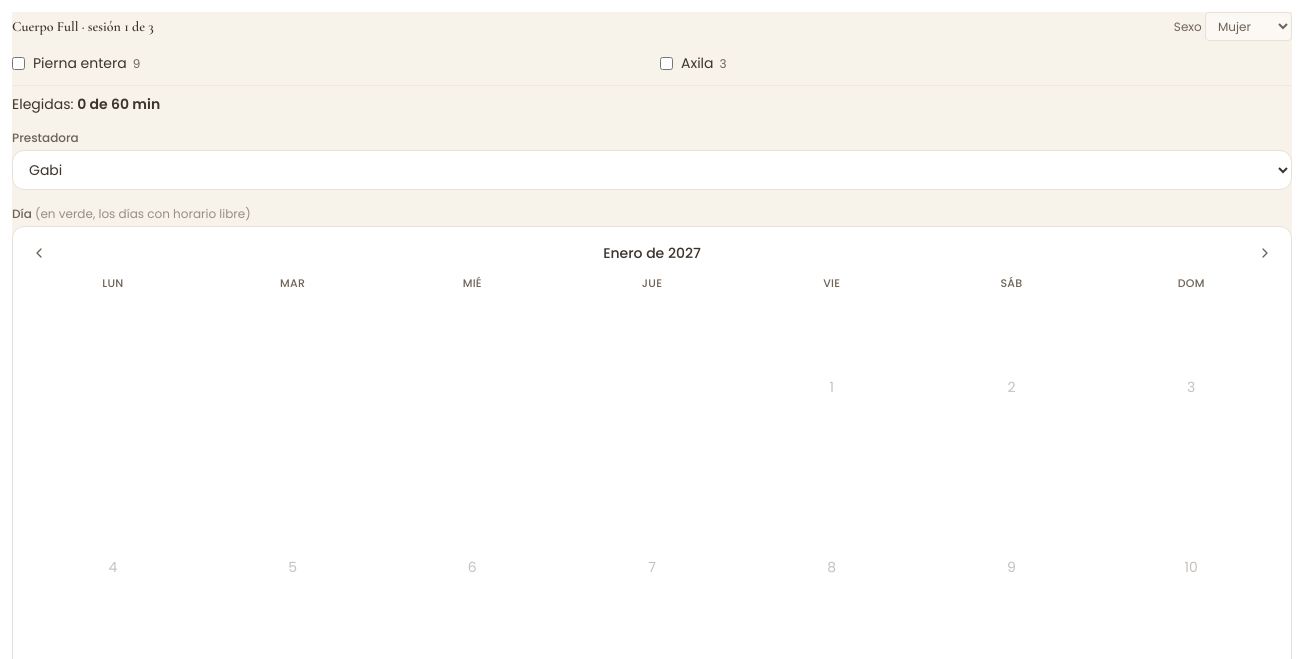
Test case: FormularioAgendar — depilación, ronda de arreglos 3 › cambiar de sexo limpia las zonas tildadas: los minutos de cada zona son otros
Click the checkbox labelled "Pierna entera9": (18, 64) [12,57,25,70]
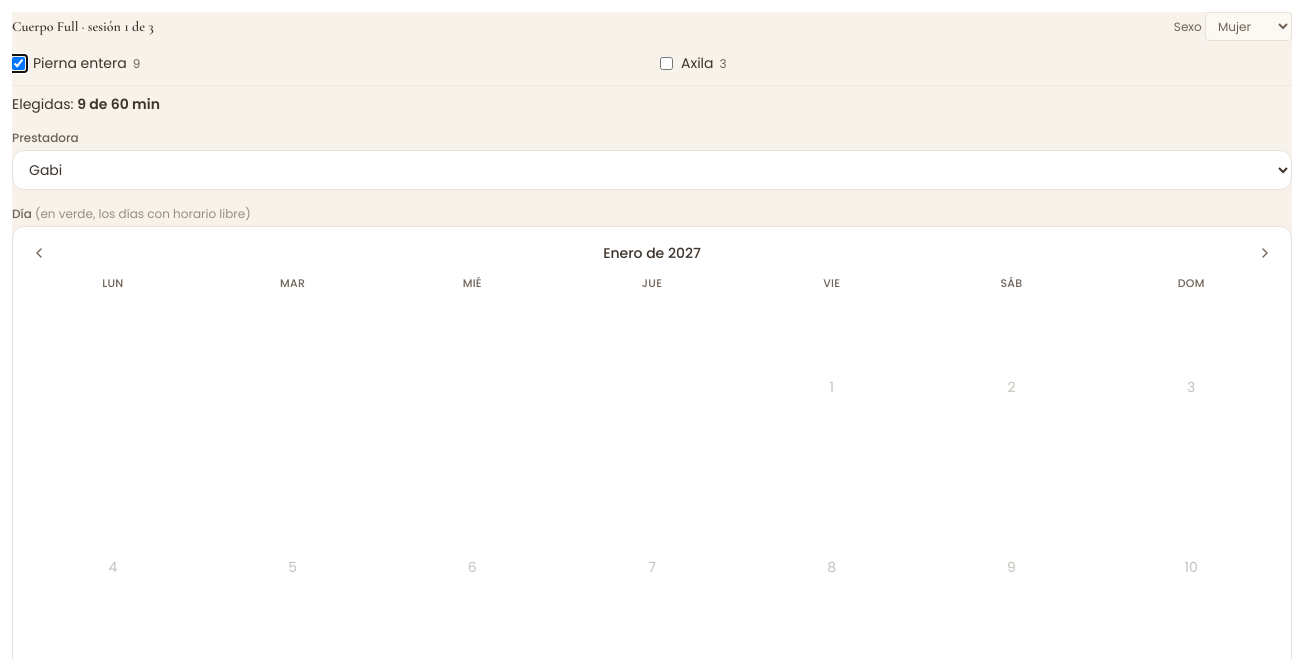
expect the text "9 de 60 min" is shown: met, box [77,94,160,114]
Select "Hombre" in the dropdown labelled "Sexo": (1248, 26) [1205,12,1292,41]
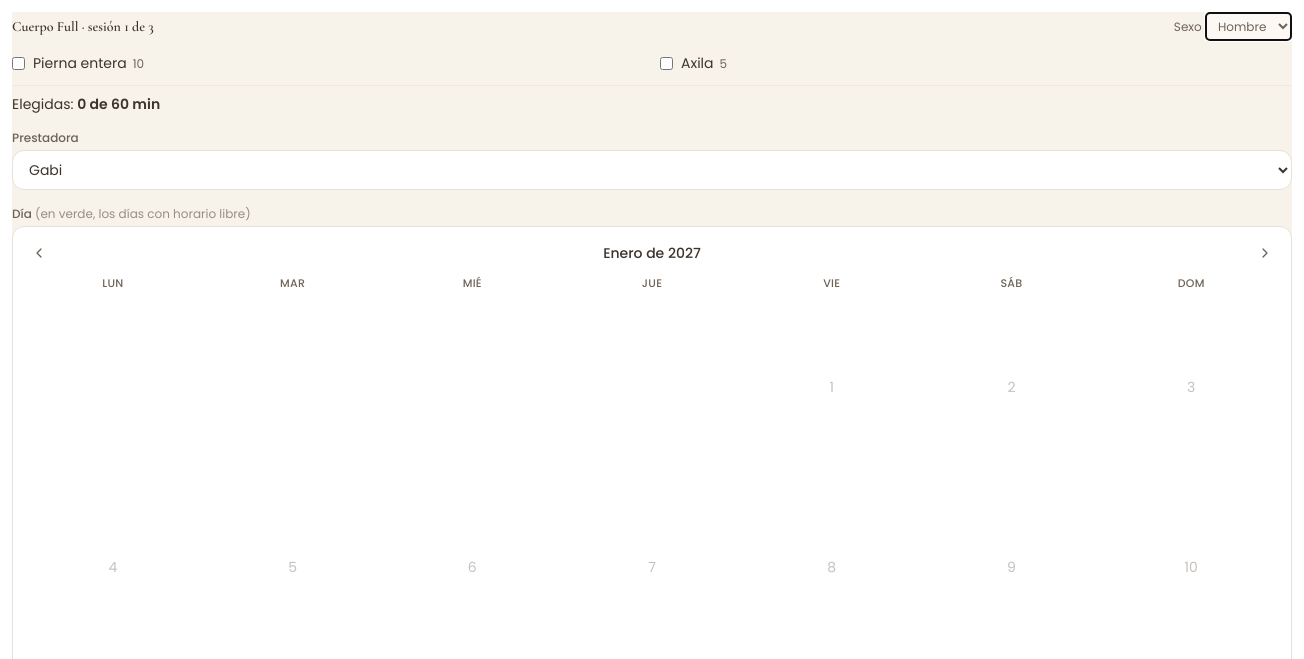
expect the checkbox labelled "Pierna entera10" is not checked: met, box [12,57,25,70]
expect the text "0 de 60 min" is shown: met, box [77,94,160,114]
